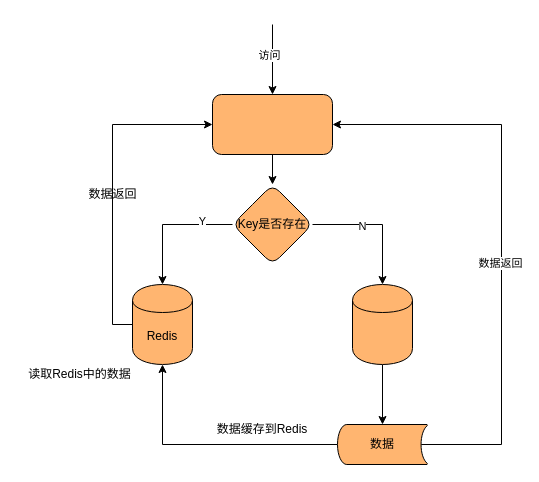
Image size: 539x482. Some labels were removed from this diagram. Here are the shapes that lost their labels. From the top down, the centre of each, then its label:
(x=272, y=124): 程序处理
(x=382, y=324): DB
